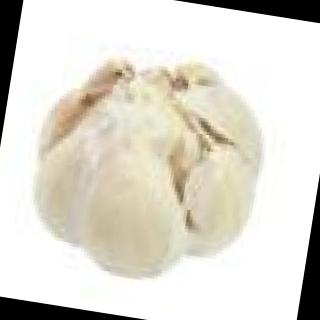Bawang Putih: (22, 38, 285, 295)
